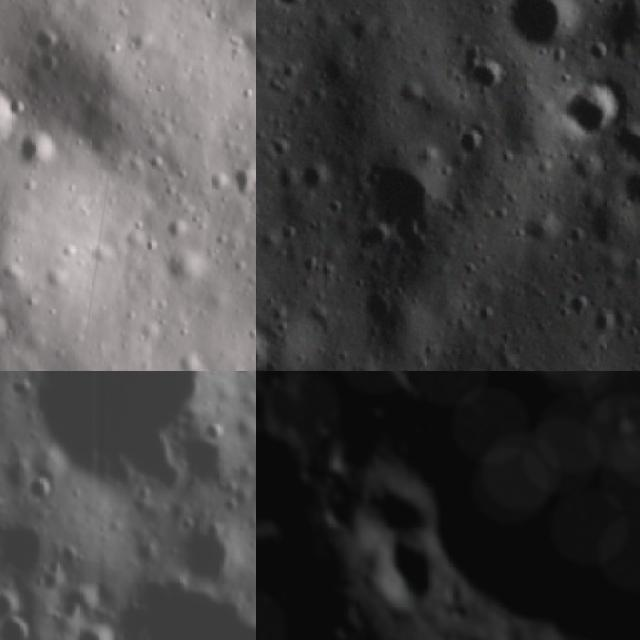crater: (367, 371, 640, 640), (256, 402, 321, 547), (357, 141, 441, 227), (357, 533, 435, 619), (349, 464, 428, 543), (169, 518, 242, 592), (0, 502, 57, 593), (547, 76, 629, 139), (499, 0, 581, 58), (376, 371, 468, 404), (10, 128, 68, 176), (461, 42, 504, 98), (436, 388, 484, 429), (0, 68, 19, 165), (605, 122, 640, 171), (225, 163, 256, 207), (22, 474, 58, 508), (256, 323, 280, 371), (67, 622, 116, 640), (0, 614, 31, 640), (261, 0, 317, 11)
